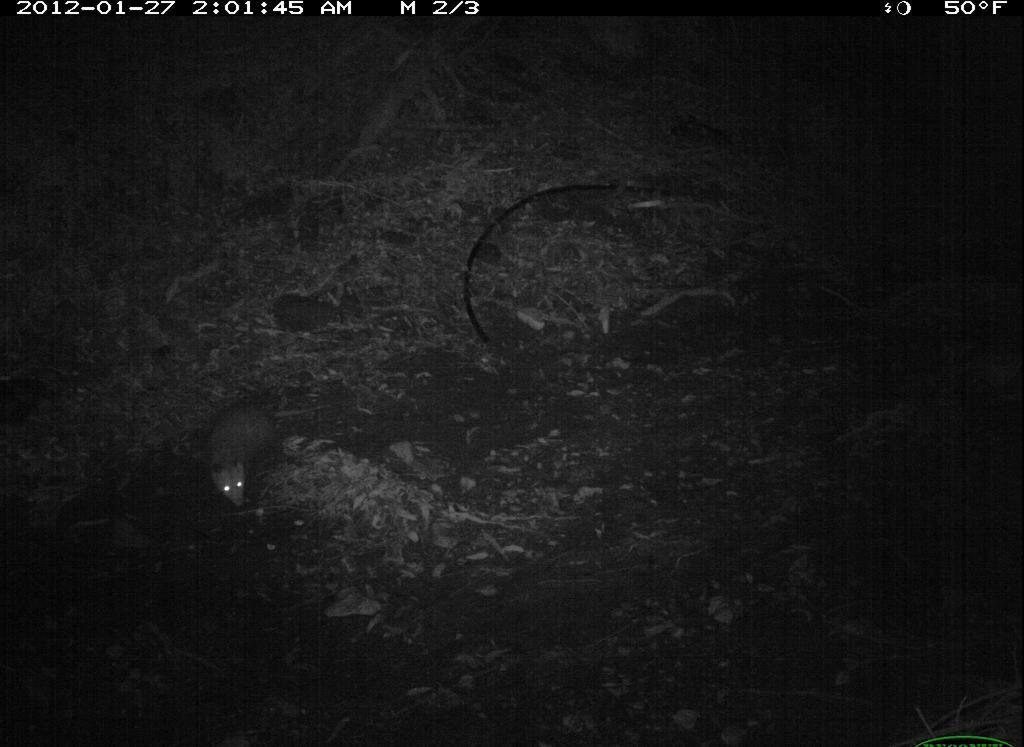opossum: (198, 401, 327, 509)
